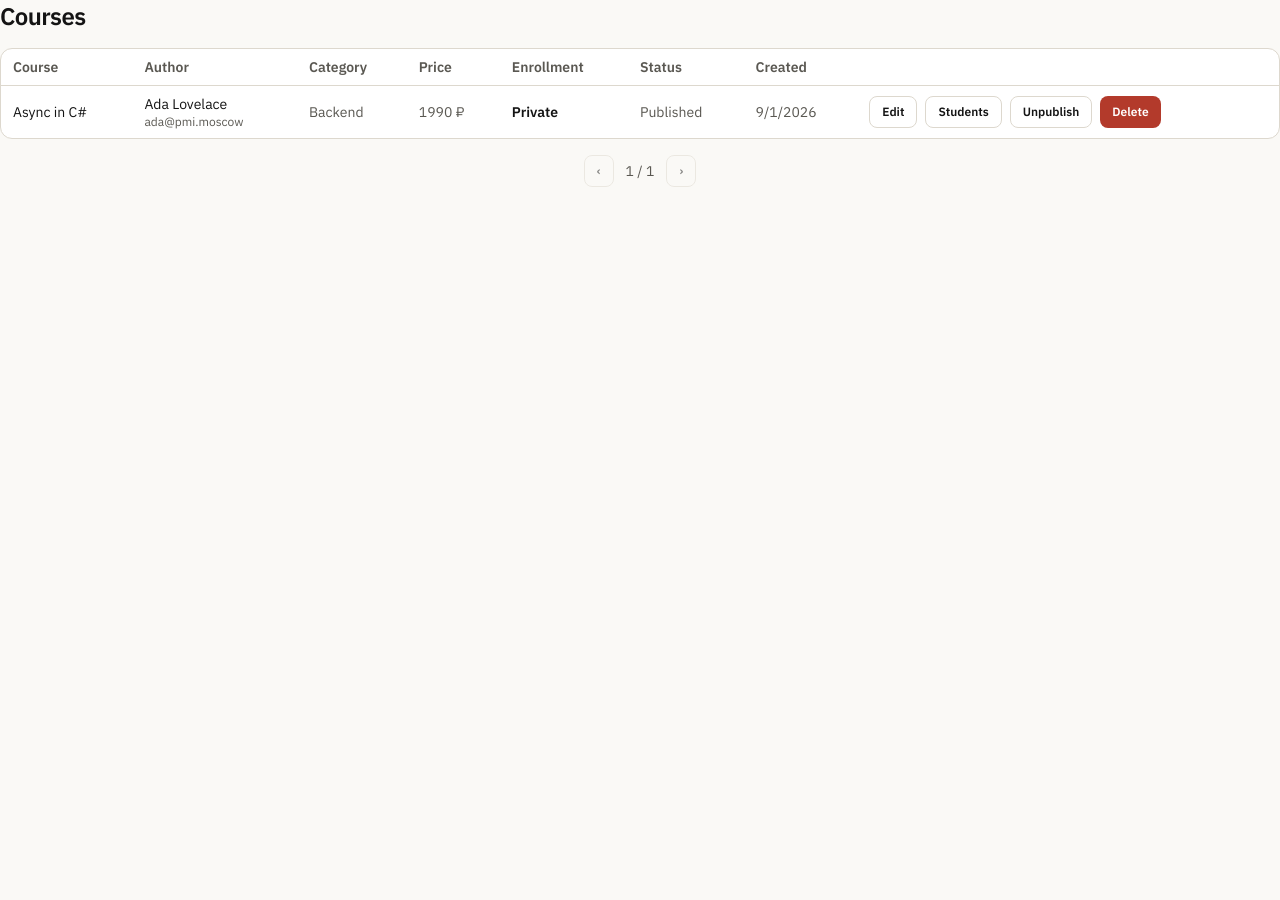
Test: AdminCoursesView › lists the roster when opening the students dialog
The width and height of the screenshot is (1280, 900).
Expected: the text "Async in C#" is shown, x1=1 y1=86 x2=132 y2=138
Click the button "Students". click: [964, 112]
box: x1=925 y1=96 x2=1002 y2=128
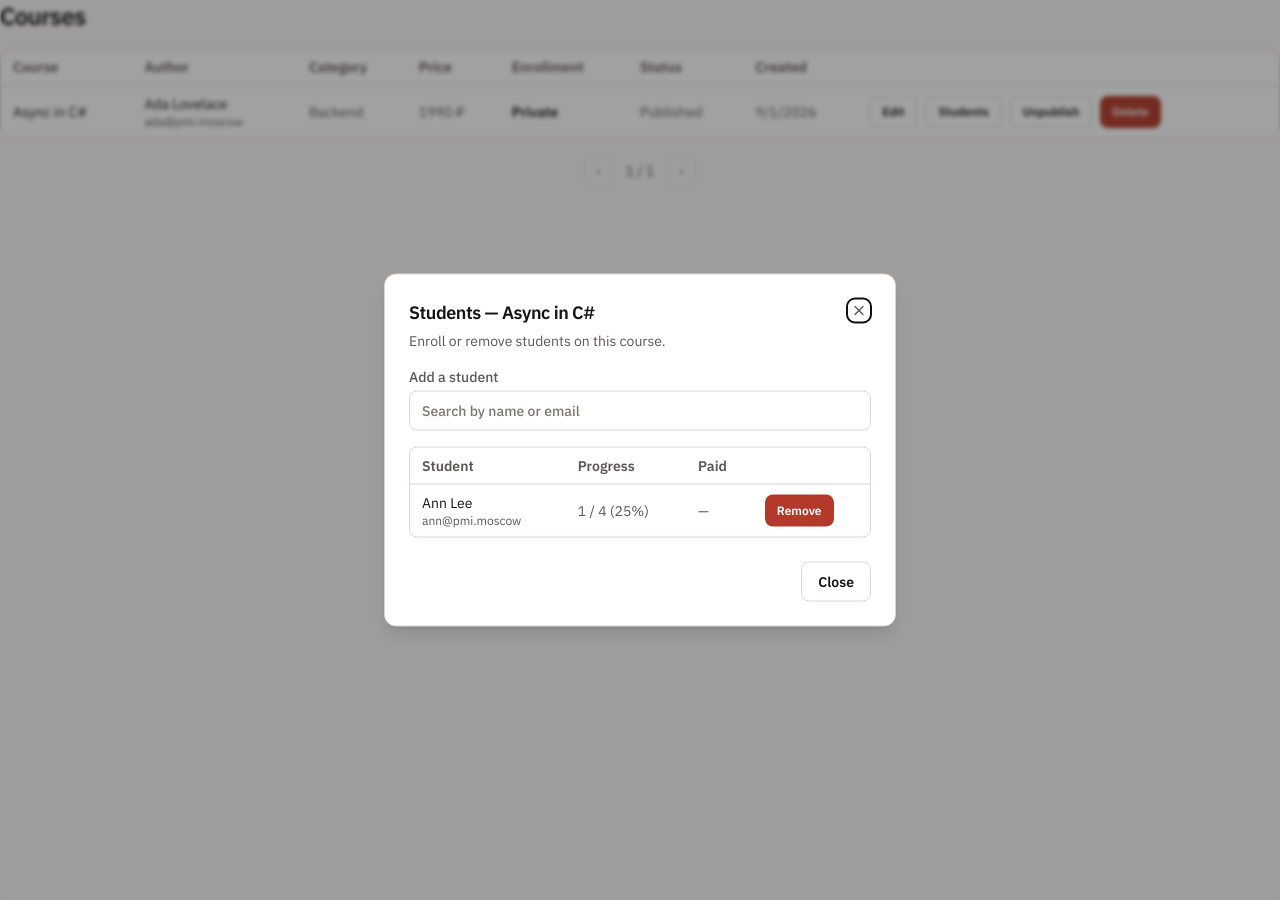
Now the text "Ann Lee" is shown, box x1=422 y1=494 x2=472 y2=512
